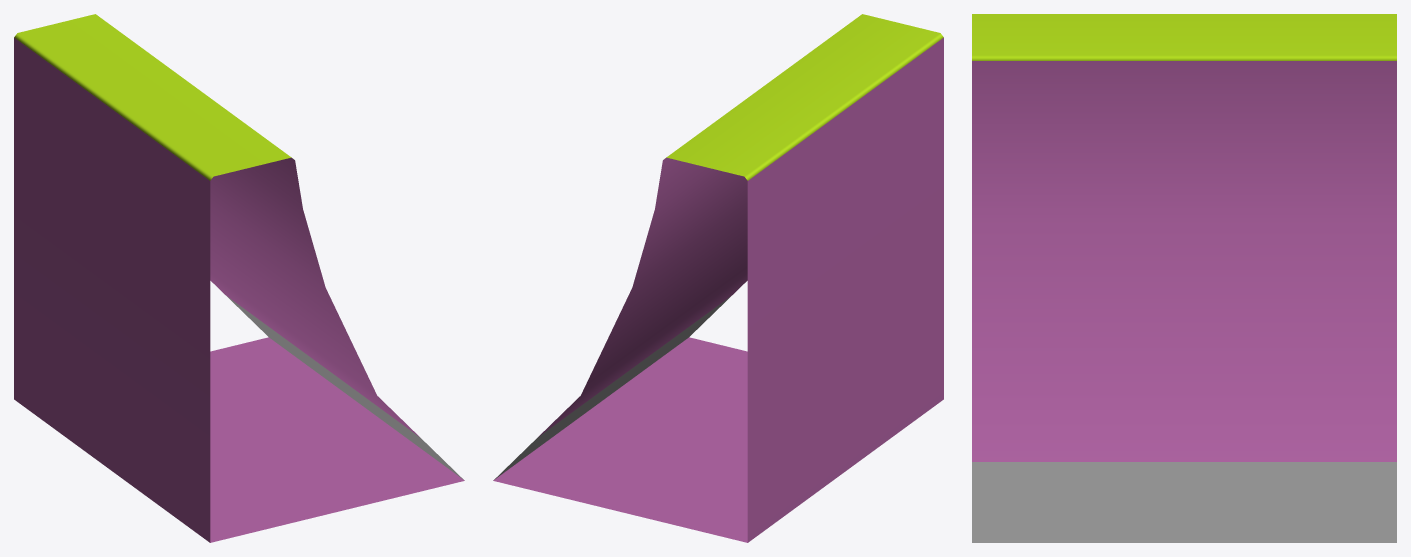
File: S_M_Terrain_Bowl002_2x2x2_LOD0.FBX
3 views of the same model, side by side, from view 1: azimuth 30°, elevation 25°; view 2: azimuth 150°, elevation 25°; view 3: azimuth 270°, elevation 25° (orthographic). The views are drawn at different scales.
Parts seen in each view (by area): view 1: S_M_Terrain_Bowl002_2x2x2_LOD0; view 2: S_M_Terrain_Bowl002_2x2x2_LOD0; view 3: S_M_Terrain_Bowl002_2x2x2_LOD0.
Boxes of the visible parts, x1,y1,x2,y2 form: S_M_Terrain_Bowl002_2x2x2_LOD0: [14, 14, 464, 542]; S_M_Terrain_Bowl002_2x2x2_LOD0: [493, 14, 943, 542]; S_M_Terrain_Bowl002_2x2x2_LOD0: [972, 14, 1396, 542].
Size of the model in its own units: 150 by 206 by 200.
